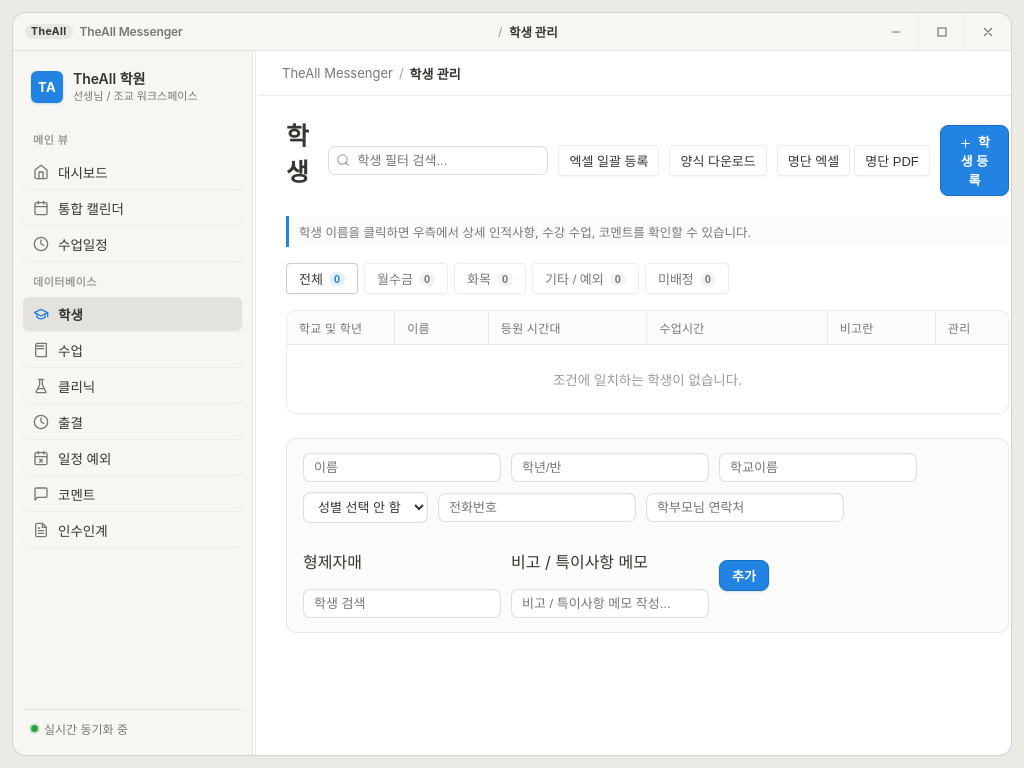
Test: App › switches to the attendance, exceptions, and comments tabs
The image size is (1024, 768).
Click the button "출결".
click(132, 422)  # box [23,405,242,439]
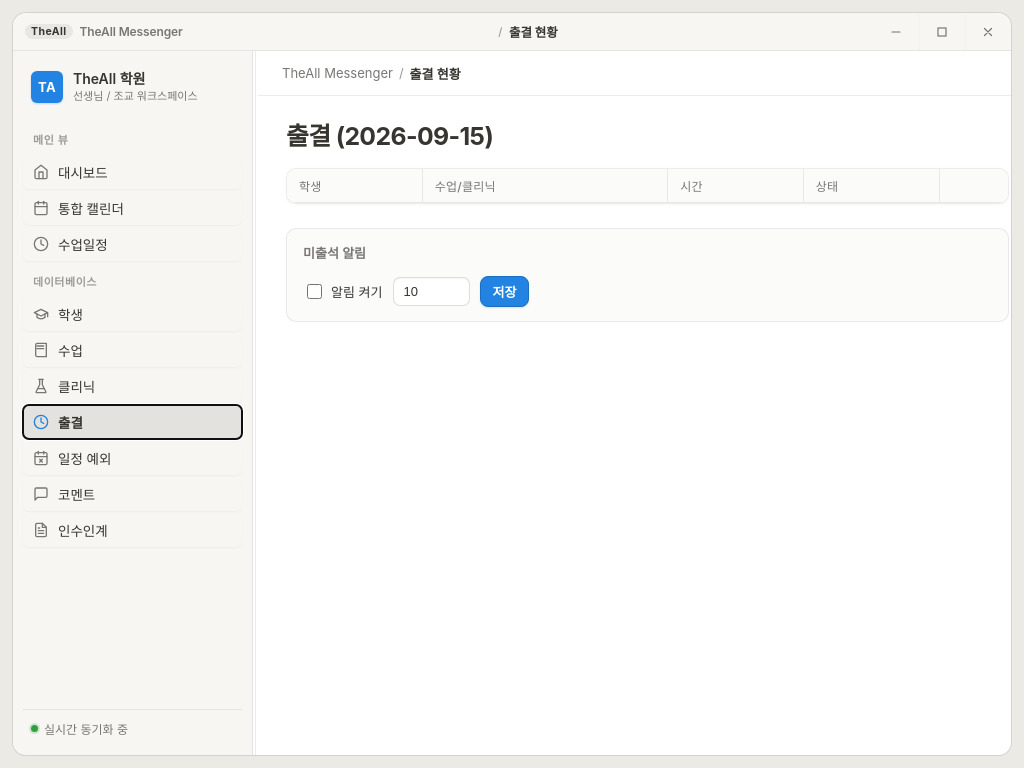
expect the heading "출결 (2026-09-15)" is shown: met, box [286,121,493,151]
Click the button "일정 예외".
click(132, 458)  # box [23,441,242,475]
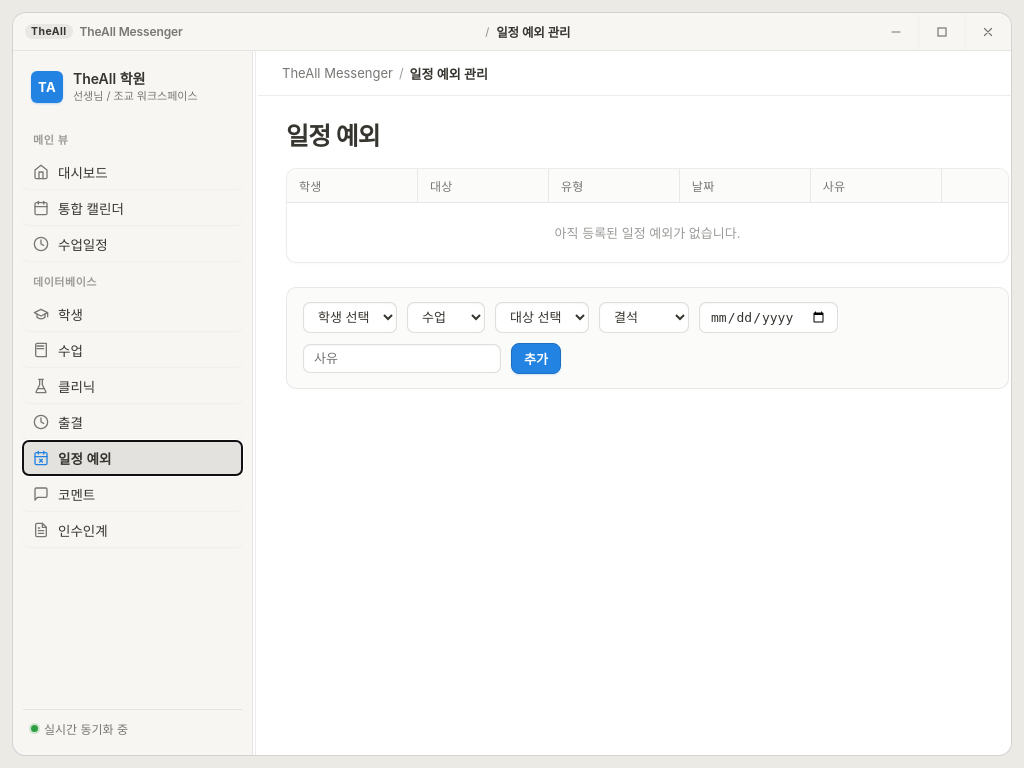
expect the heading "일정 예외" is shown: met, box [286,121,380,151]
Click the button "코멘트".
click(132, 494)  # box [23,477,242,511]
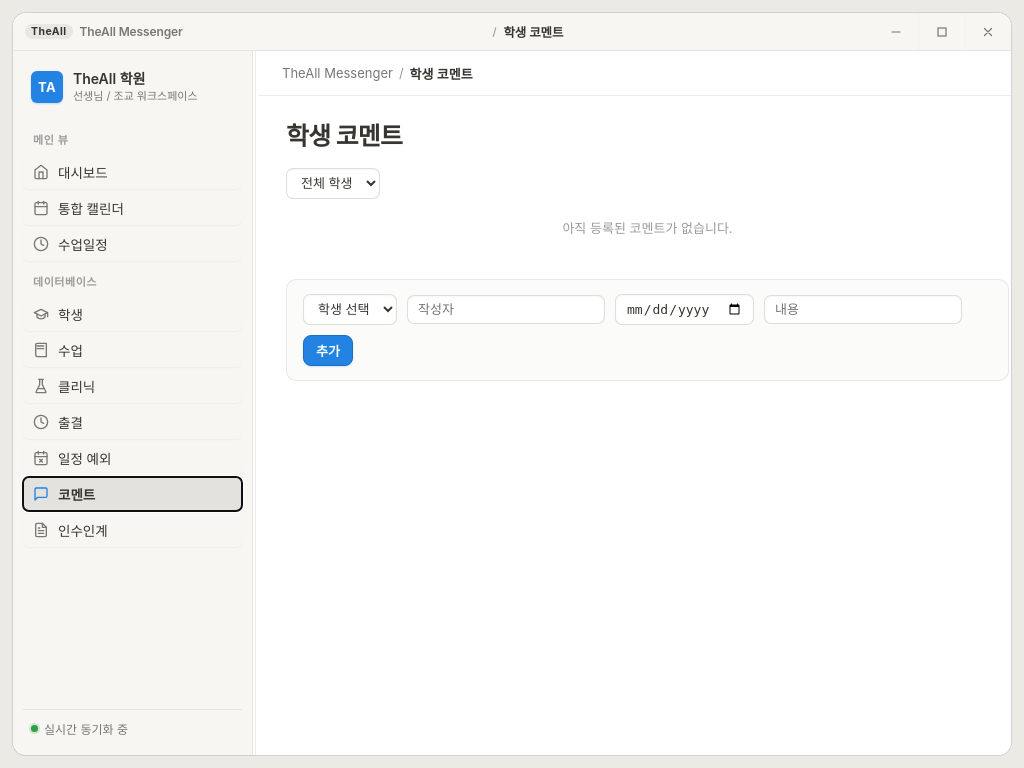
expect the heading "학생 코멘트" is shown: met, box [286,121,402,151]
